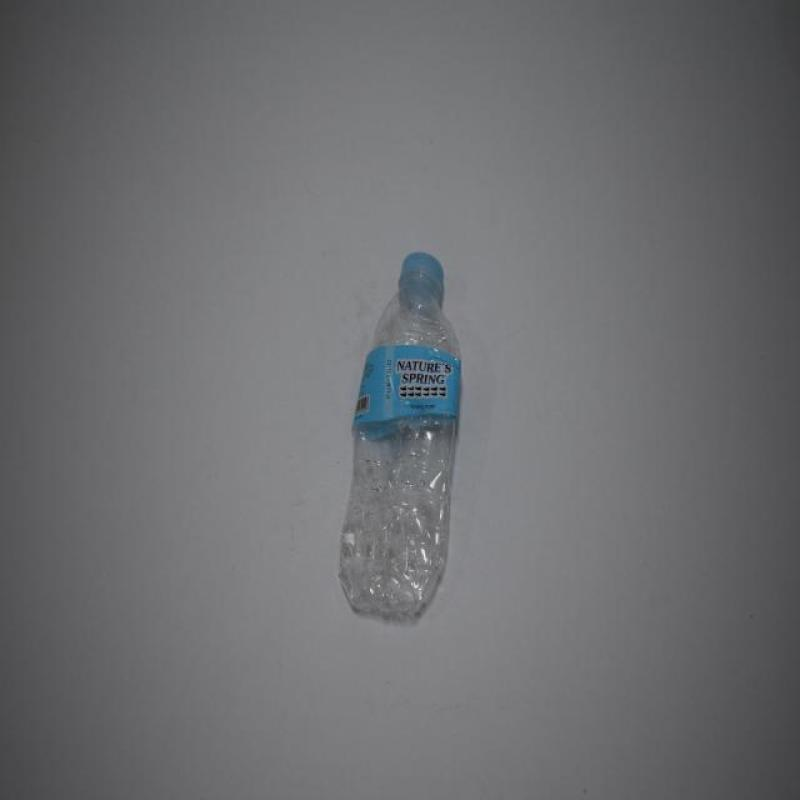botella: (338, 250, 462, 624)
